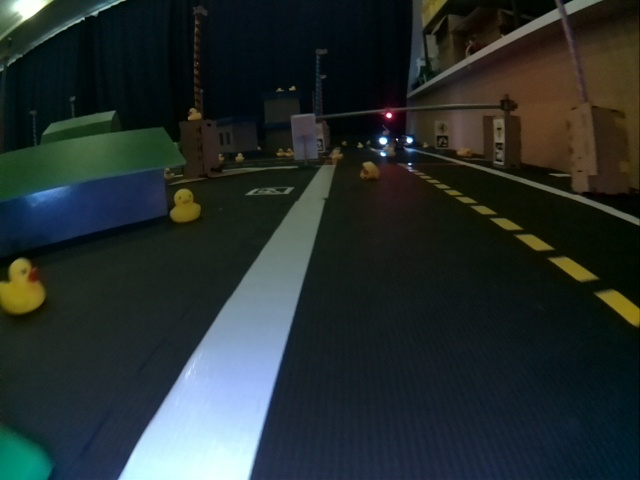Duckie: (2, 257, 44, 316), (170, 188, 201, 222), (360, 161, 380, 180), (188, 108, 201, 120), (457, 147, 470, 157), (332, 150, 342, 159), (386, 147, 396, 156), (236, 153, 245, 162), (285, 148, 294, 157), (276, 148, 285, 157), (357, 142, 366, 149), (421, 142, 430, 148)
Intersection sign: (494, 121, 504, 139)
QR code: (246, 187, 293, 195), (494, 142, 504, 163), (437, 135, 449, 147)
Traffic light: (384, 111, 394, 121)
